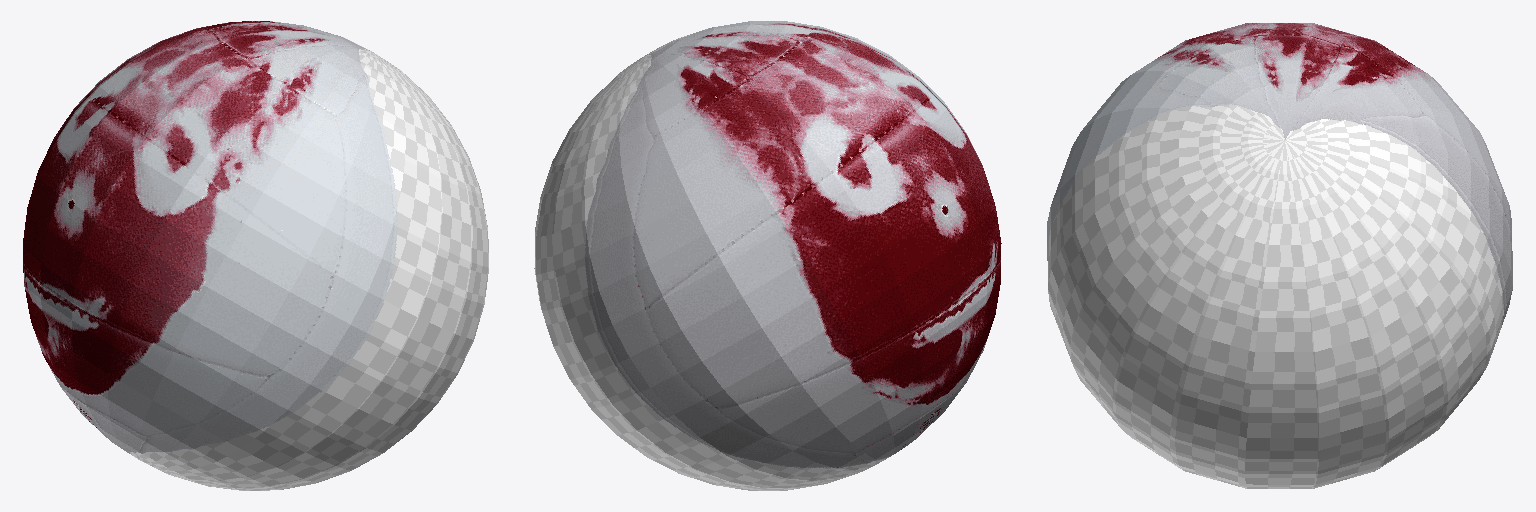
The picture shows the model from 3 angles: view 1: azimuth 30°, elevation 25°; view 2: azimuth 150°, elevation 25°; view 3: azimuth 270°, elevation 25°; orthographic projection.
Visible parts, largest first — view 1: pSphere1; view 2: pSphere1; view 3: pSphere1.
Part boxes in pixels (x1,y1,x2,y2): pSphere1: (23, 21, 488, 490); pSphere1: (534, 21, 1001, 490); pSphere1: (1047, 23, 1512, 488).
Size of the model in its own units: 0.5054 by 0.5066 by 0.5027.
1 materials, 1 textured.